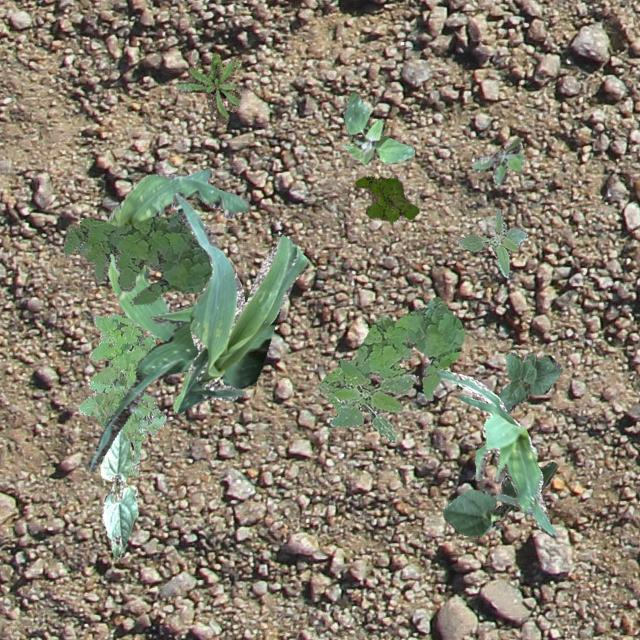crop: (87, 290, 277, 470), (172, 192, 308, 412), (104, 168, 250, 342), (436, 368, 556, 536), (442, 461, 556, 536), (100, 426, 138, 556), (498, 352, 560, 412)
weed: (318, 296, 464, 412), (78, 312, 166, 474), (61, 212, 210, 304), (328, 358, 416, 440), (342, 92, 414, 164), (458, 208, 526, 276), (176, 52, 240, 124), (354, 175, 418, 222), (470, 136, 522, 184)
